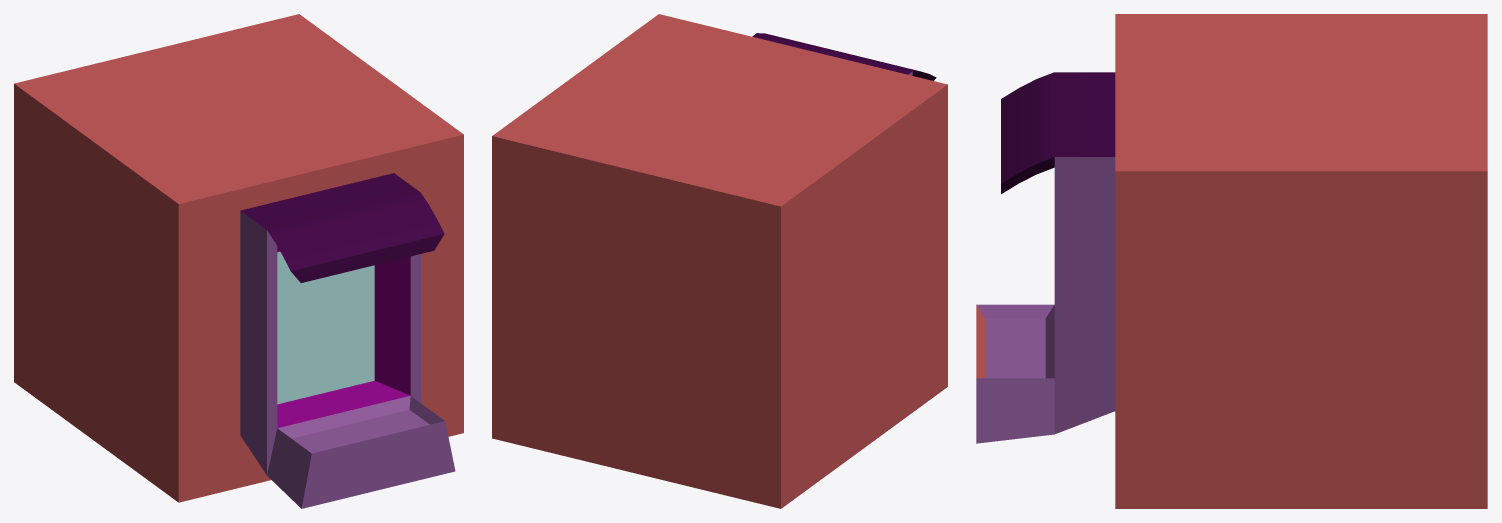
File: Middle Block Pink purple.fbx
3 renders of one model, left to right at view 1: azimuth 30°, elevation 25°; view 2: azimuth 150°, elevation 25°; view 3: azimuth 270°, elevation 25°, orthographic. The views are drawn at different scales.
Visible parts, largest first — view 1: pCube24; view 2: pCube24; view 3: pCube24.
Boxes of the visible parts, x1,y1,x2,y2 form: pCube24: [14, 14, 463, 508]; pCube24: [492, 14, 947, 508]; pCube24: [976, 14, 1487, 508].
Bounding box in the file's own units: 2 × 2 × 2.75.
